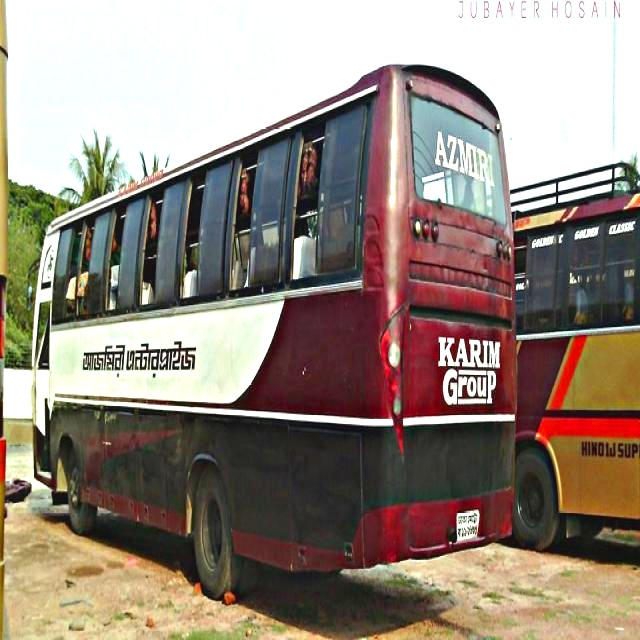bus: (25, 44, 538, 618)
